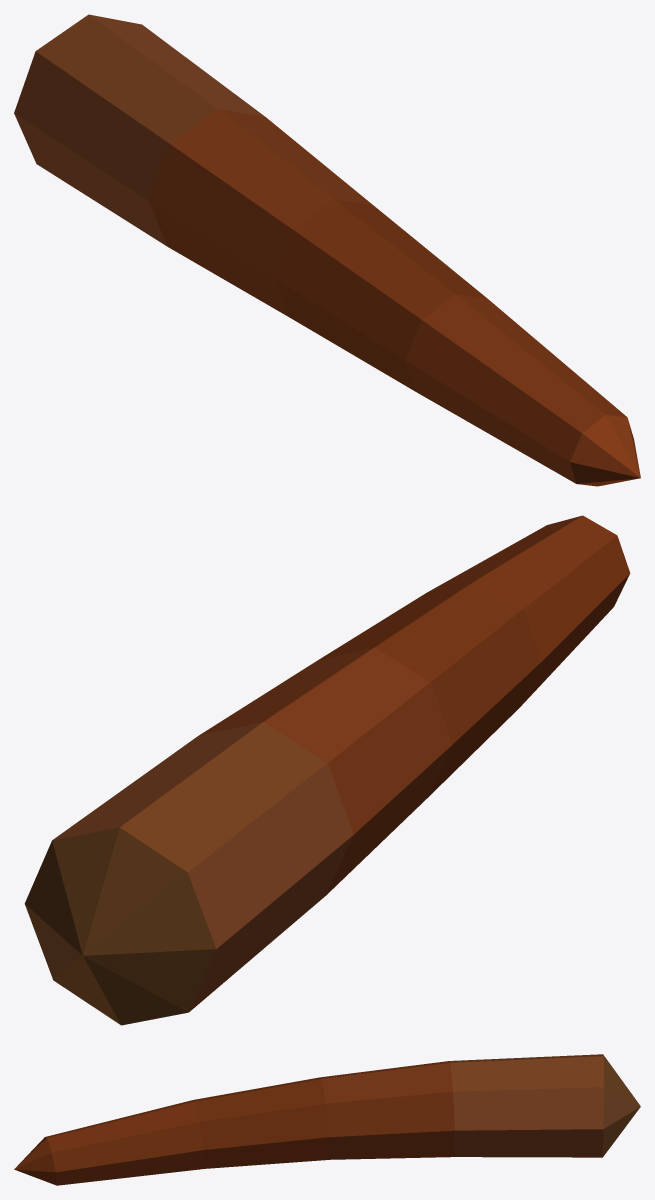
Rendered from Food_Carrot.fbx.
The picture shows the model from 3 angles, top to bottom: view 1: azimuth 30°, elevation 25°; view 2: azimuth 150°, elevation 25°; view 3: azimuth 270°, elevation 25°; orthographic projection. The views are drawn at different scales.
Parts seen in each view (by area): view 1: Food_Carrot; view 2: Food_Carrot; view 3: Food_Carrot.
Boxes of the visible parts, x1,y1,x2,y2 form: Food_Carrot: (14,14,640,486); Food_Carrot: (24,515,630,1025); Food_Carrot: (14,1054,640,1185).
Size of the model in its own units: 5.79 by 5.07 by 27.06.
